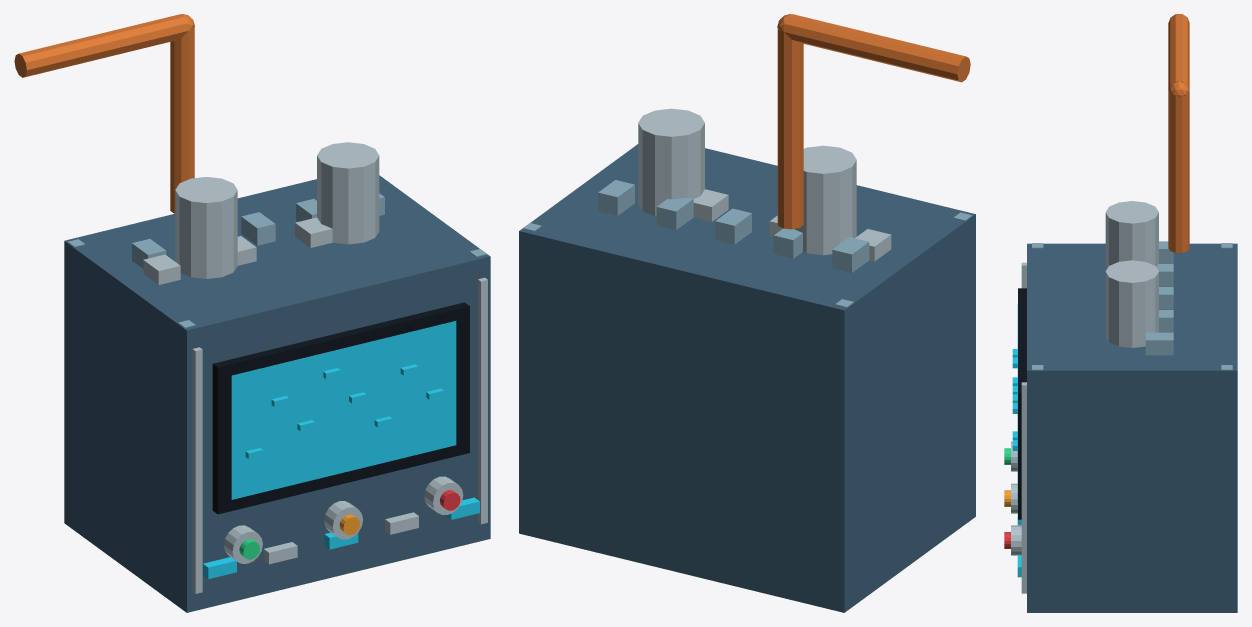
The model's file is 19_L72_MassFlowControllerA.fbx.
3 renders of one model, left to right at view 1: azimuth 30°, elevation 25°; view 2: azimuth 150°, elevation 25°; view 3: azimuth 270°, elevation 25°, orthographic. The views are drawn at different scales.
Parts seen in each view (by area): view 1: MassFlowControllerA; view 2: MassFlowControllerA; view 3: MassFlowControllerA.
Boxes of the visible parts, x1,y1,x2,y2 form: MassFlowControllerA: (14, 14, 490, 612); MassFlowControllerA: (519, 14, 975, 612); MassFlowControllerA: (1004, 14, 1237, 612).
Size of the model in its own units: 113 by 145 by 69.77.
